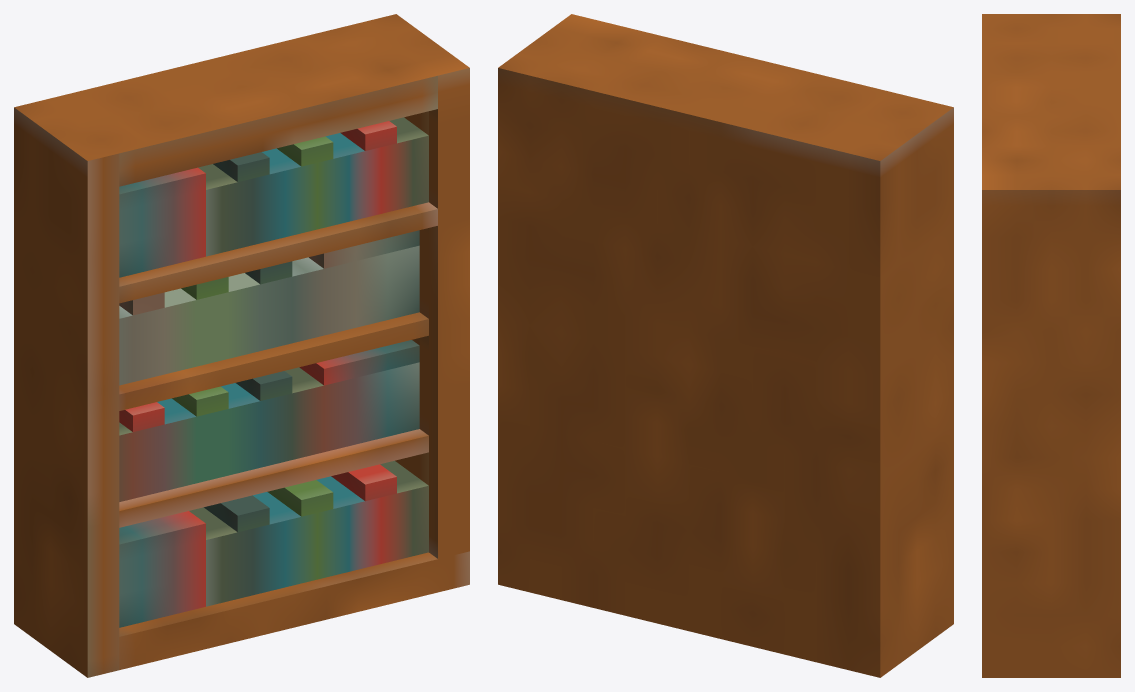
File: BookshelfMini_00.obj
The picture shows the model from 3 angles, left to right: view 1: azimuth 30°, elevation 25°; view 2: azimuth 150°, elevation 25°; view 3: azimuth 270°, elevation 25°; orthographic projection. The views are drawn at different scales.
Visible parts, largest first — view 1: BookshelfMini_00; view 2: BookshelfMini_00; view 3: BookshelfMini_00.
Boxes of the visible parts, bbox=[...] form: BookshelfMini_00: bbox=[14, 14, 469, 677]; BookshelfMini_00: bbox=[498, 14, 953, 677]; BookshelfMini_00: bbox=[982, 14, 1120, 677].
Bounding box in the file's own units: 1.2 × 1.55 × 0.4.
